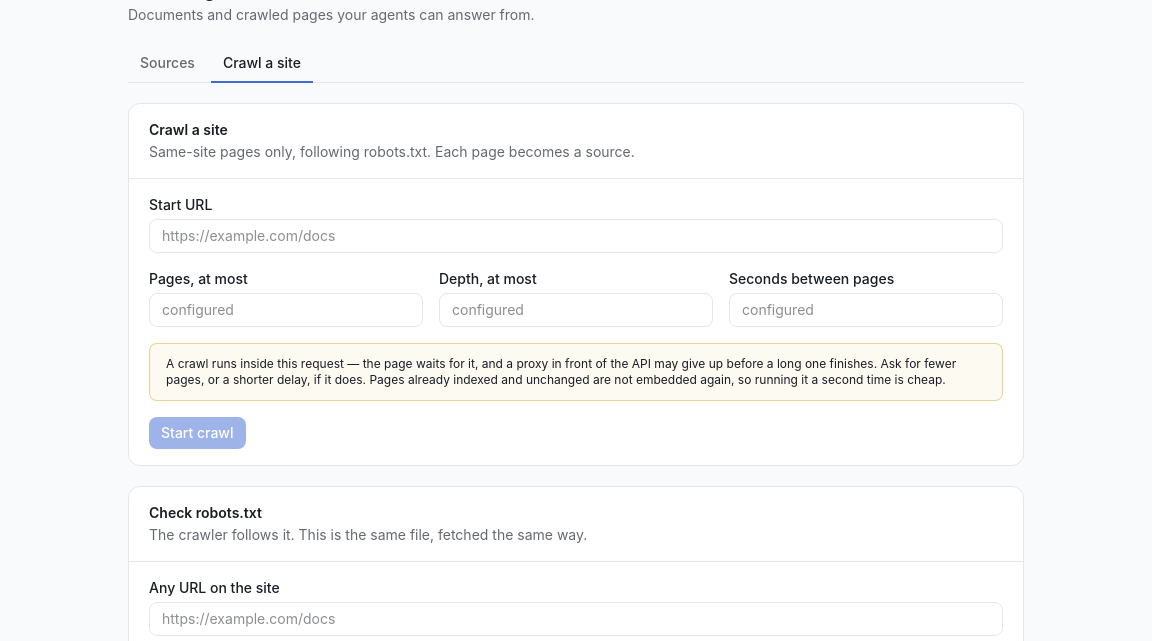
the crawl report › counts what was indexed, and what was already up to date
The width and height of the screenshot is (1152, 641).
Type "https://acme.test/docs" into the field labelled "Start URL".
click(576, 236); type("https://acme.test/docs")  # box 149,219 -> 1003,253
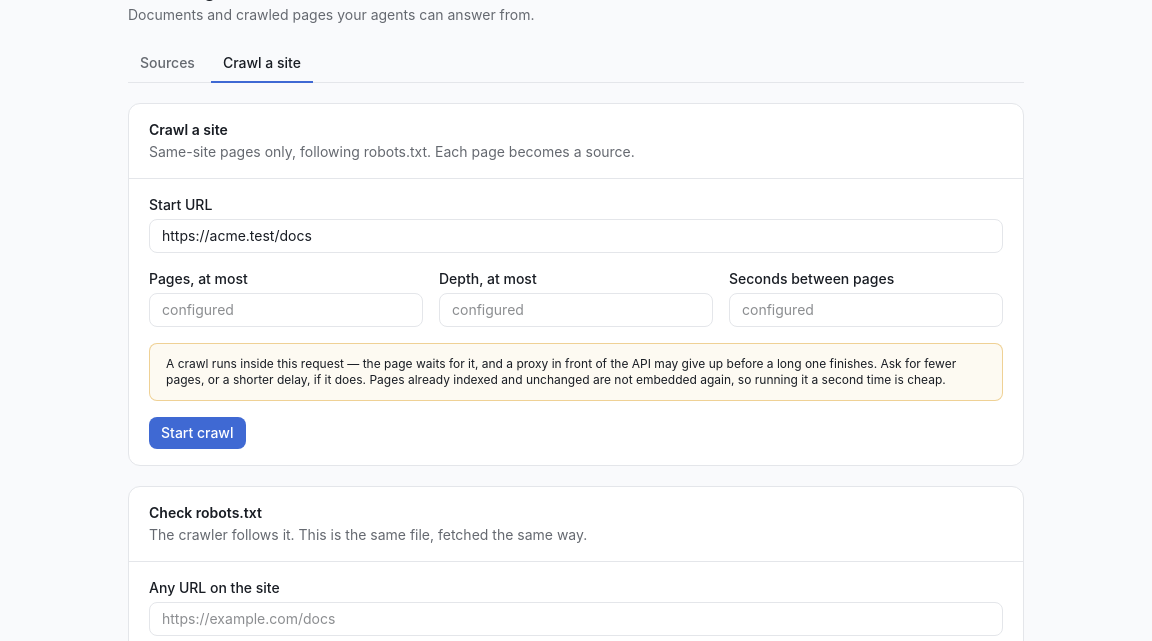
Click the button "Start crawl".
click(197, 433)  # box 149,417 -> 246,449
(page scrolled)
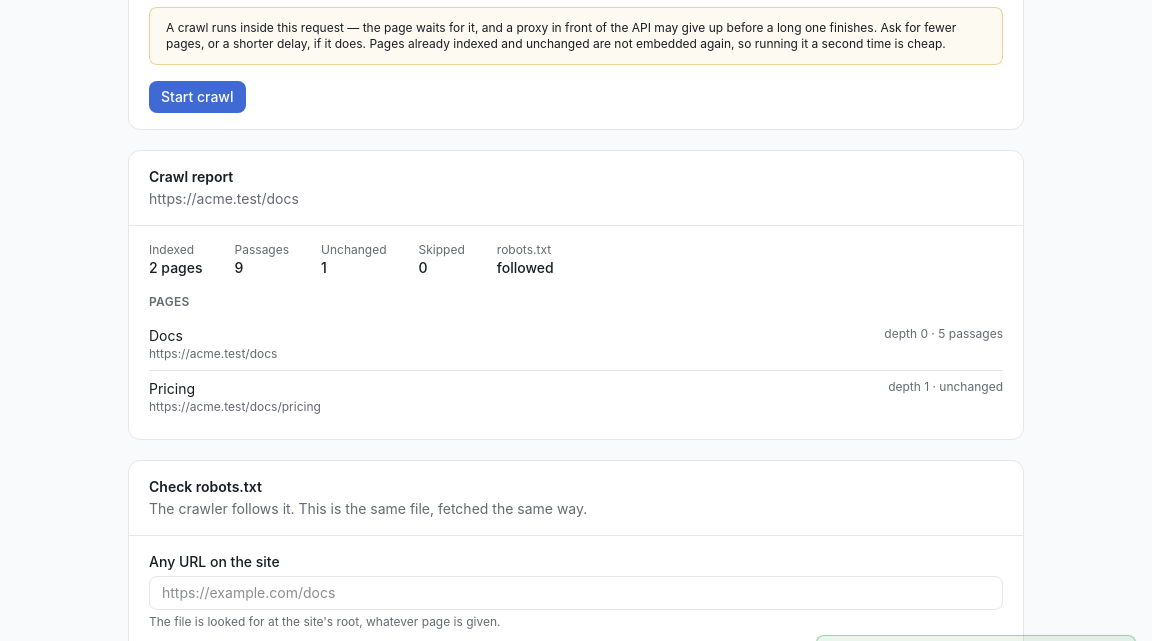
Now the heading "Crawl report" is shown, box 149,168 -> 233,185
Now the text "2 pages" is shown, box 149,258 -> 203,278
Now the text "depth 1 · unchanged" is shown, box 888,379 -> 1003,395
